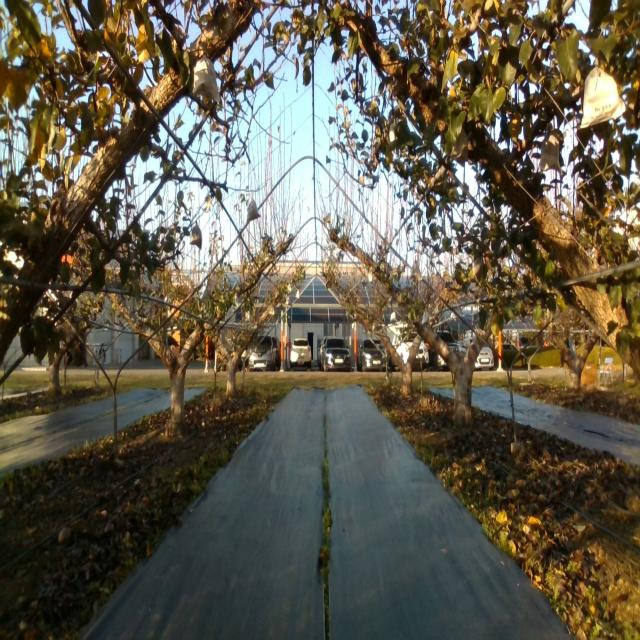pearbags: (580, 65, 627, 128), (192, 54, 220, 104), (541, 132, 562, 174), (247, 199, 260, 223), (190, 223, 202, 248), (411, 260, 422, 280)
